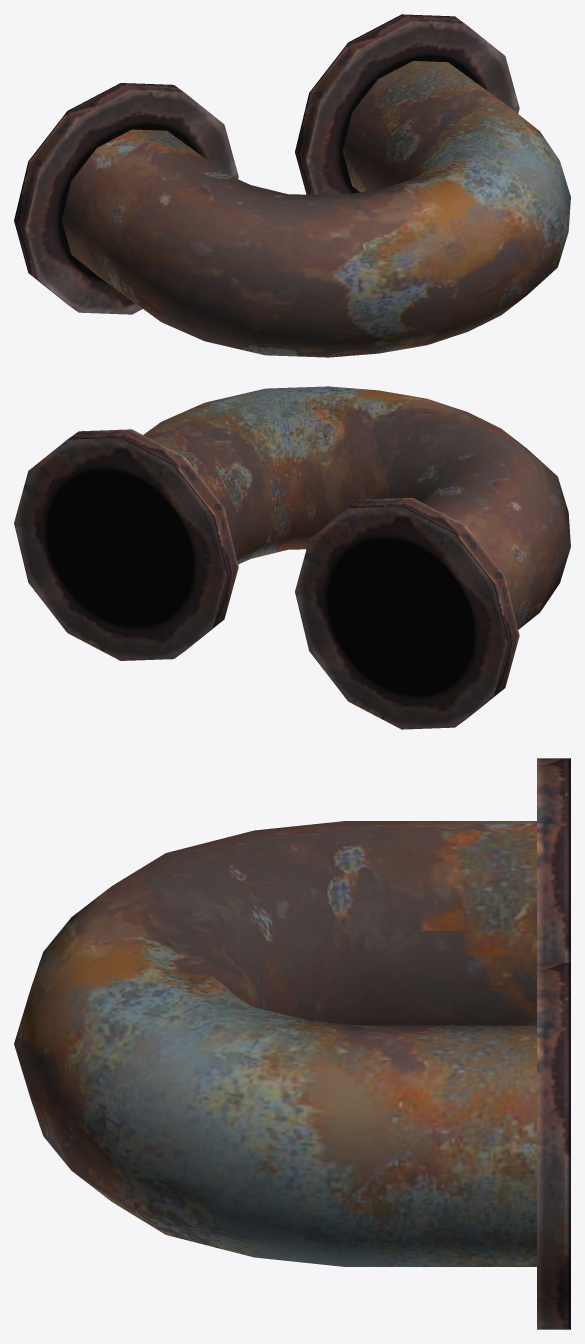
Rendered from pipe02_U.fbx.
3 views of the same model, one above another, from view 1: azimuth 30°, elevation 25°; view 2: azimuth 150°, elevation 25°; view 3: azimuth 270°, elevation 25° (orthographic). The views are drawn at different scales.
Parts seen in each view (by area): view 1: pipe02_U; view 2: pipe02_U; view 3: pipe02_U.
Boxes of the visible parts, <box> form: pipe02_U: <box>14,14,570,357</box>; pipe02_U: <box>14,386,570,729</box>; pipe02_U: <box>14,758,570,1329</box>.
Size of the model in its own units: 88 by 38 by 57.49.
